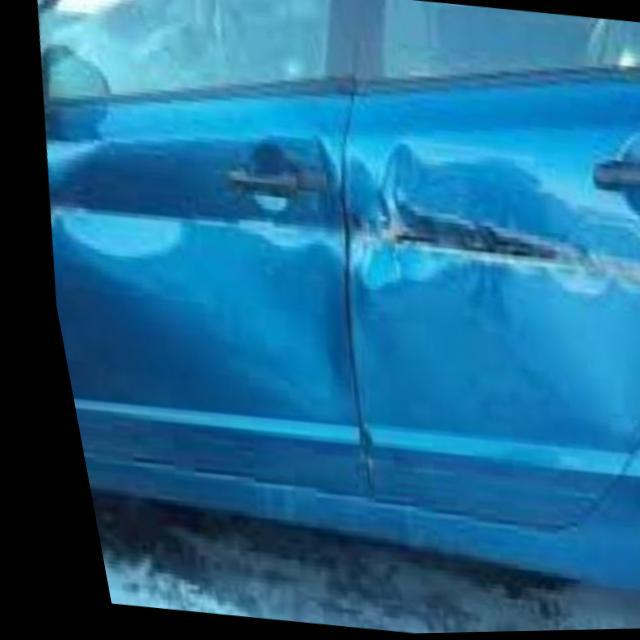dent: (40, 125, 640, 317)
